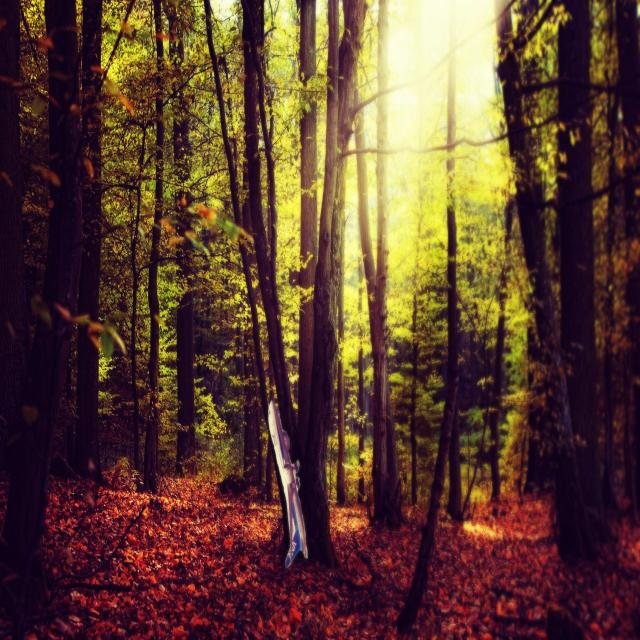airplane: (267, 399, 308, 569)
